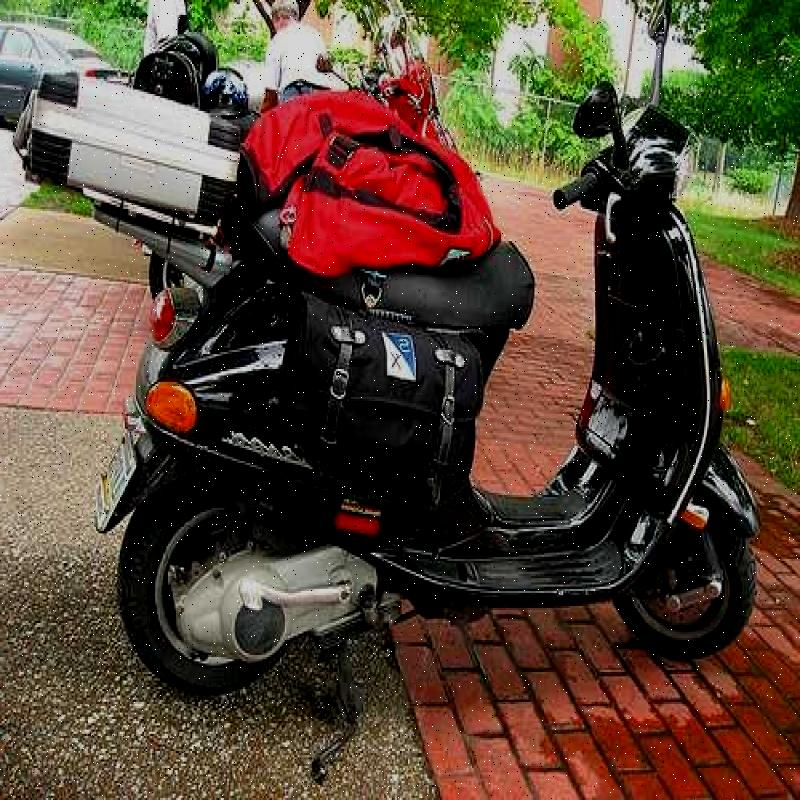bike: (51, 78, 752, 720)
